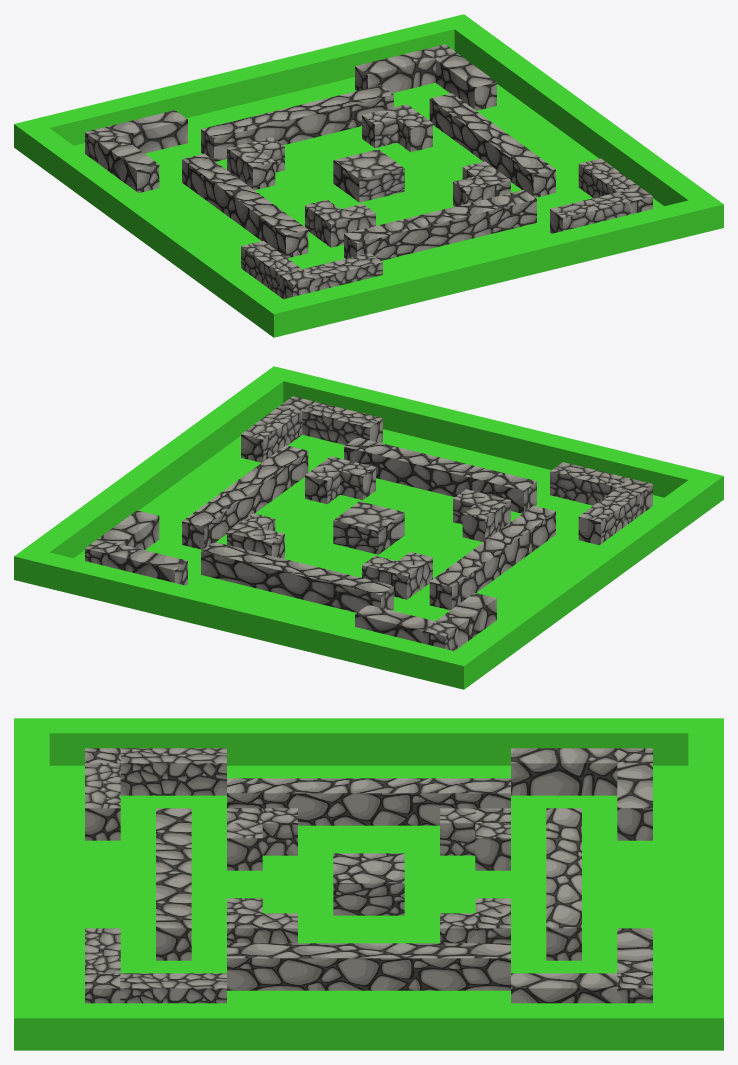
The model's file is asilmap.fbx.
3 renders of one model, top to bottom at view 1: azimuth 30°, elevation 25°; view 2: azimuth 150°, elevation 25°; view 3: azimuth 270°, elevation 25°, orthographic. The views are drawn at different scales.
Visible parts, largest first — view 1: Plane, Cube.005, Cube.004, Cube.006, Cube.007, Cube.002, Cube.003, Cube, Cube.001, Cube.012, Cube.010, Cube.009 (+2 smaller); view 2: Plane, Cube.004, Cube.005, Cube.006, Cube.007, Cube.001, Cube, Cube.003, Cube.002, Cube.012, Cube.011, Cube.008 (+2 smaller); view 3: Plane, Cube.007, Cube.006, Cube, Cube.003, Cube.001, Cube.002, Cube.004, Cube.005, Cube.012, Cube.008, Cube.009 (+2 smaller).
Part boxes in pixels (box(x1,y1,x2,y2)): Plane: box(14, 14, 723, 337); Cube.005: box(344, 190, 536, 260); Cube.004: box(201, 85, 393, 161); Cube.006: box(182, 153, 308, 258); Cube.007: box(429, 93, 555, 197); Cube.002: box(355, 44, 496, 110); Cube.003: box(85, 110, 187, 193); Cube: box(241, 240, 382, 298); Cube.001: box(550, 158, 652, 233); Cube.012: box(333, 149, 404, 202); Cube.010: box(362, 104, 432, 152); Cube.009: box(227, 137, 284, 190); Plane: box(14, 366, 723, 689); Cube.004: box(201, 542, 393, 612); Cube.005: box(344, 437, 536, 513); Cube.006: box(429, 505, 555, 610); Cube.007: box(182, 445, 308, 549); Cube.001: box(241, 396, 382, 462); Cube: box(550, 462, 652, 545); Cube.003: box(355, 592, 496, 650); Cube.002: box(85, 510, 187, 585); Cube.012: box(333, 501, 404, 554); Cube.011: box(305, 456, 375, 504); Cube.008: box(453, 489, 510, 542); Plane: box(14, 718, 723, 1050); Cube.007: box(227, 943, 510, 990); Cube.006: box(227, 778, 510, 825); Cube: box(85, 748, 226, 840); Cube.003: box(511, 748, 652, 840); Cube.001: box(85, 928, 226, 1003); Cube.002: box(511, 928, 652, 1003); Cube.004: box(546, 808, 581, 960); Cube.005: box(156, 808, 191, 960); Cube.012: box(333, 853, 404, 915); Cube.008: box(227, 808, 297, 870); Cube.009: box(440, 808, 510, 870).
Size of the model in its own units: 8000 by 400 by 8000.
